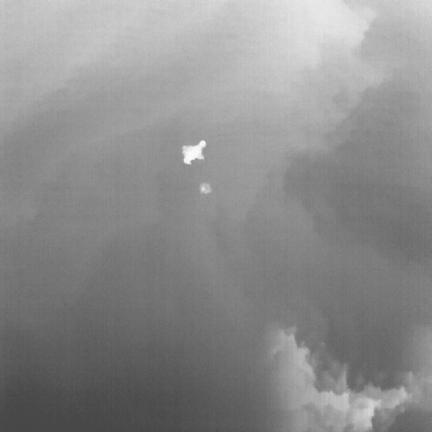flukeprints: (182, 140, 206, 165), (200, 182, 211, 194)
